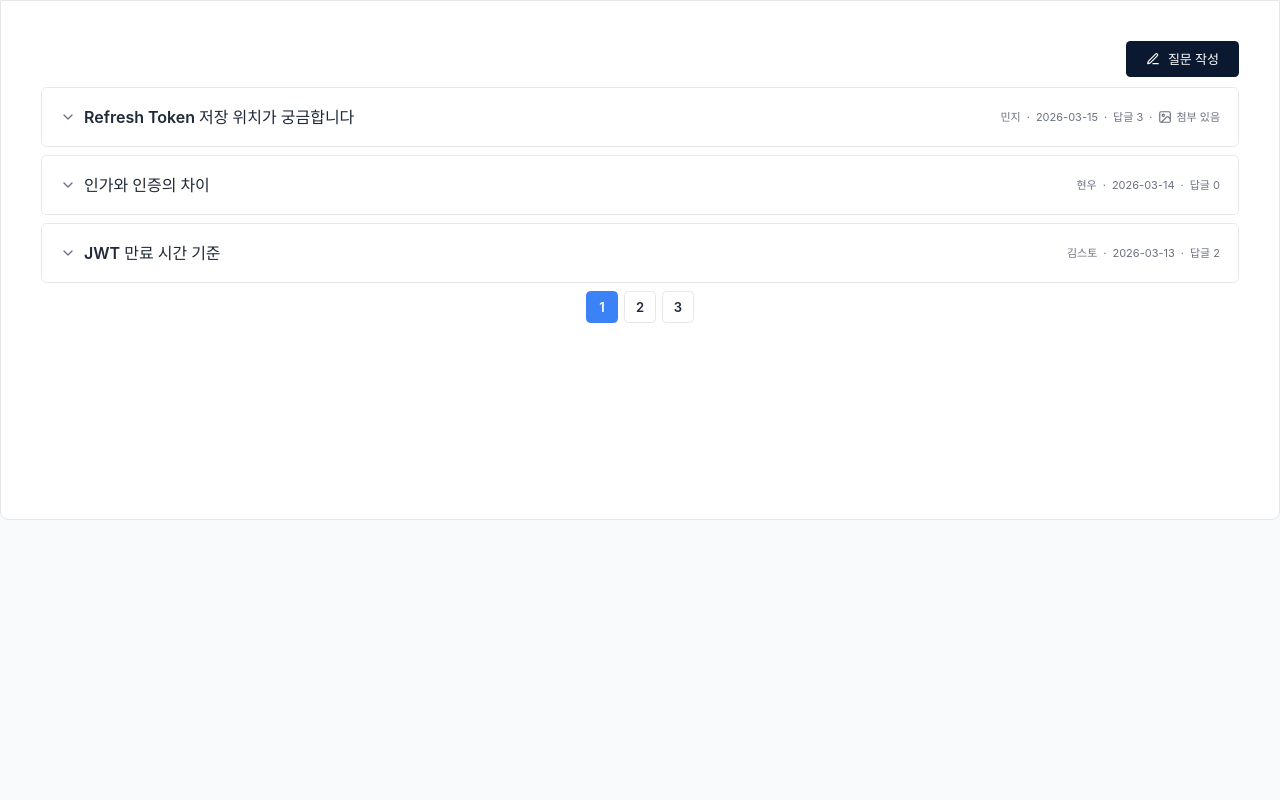
Test: QuestionsPage › 답글을 작성하고 답글 수를 갱신한다
Click the button "Refresh Token 저장 위치가 궁금합니다 민지 · 2026-03-15 · 답글 3 · 첨부 있음" at (219, 117), box [42,88,1238,146]
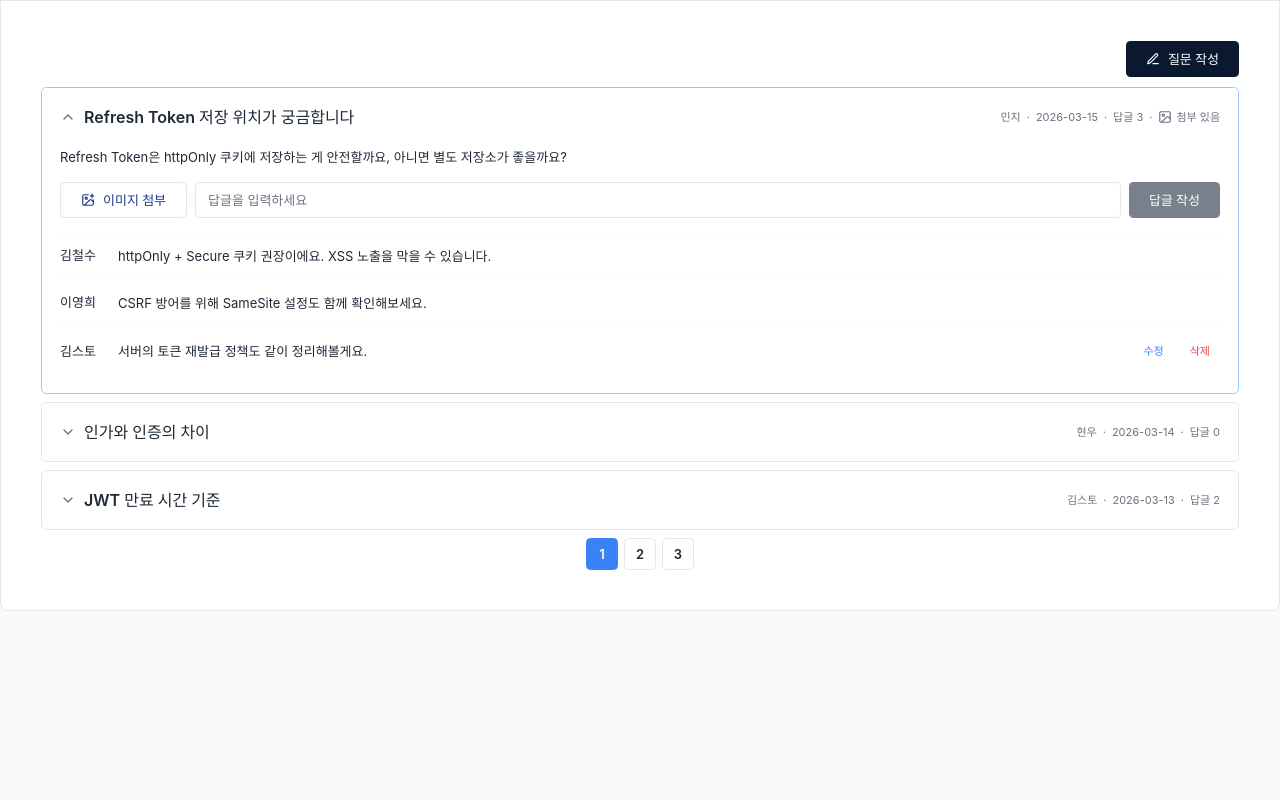
Check: the button "답글 작성" is disabled, box [1129,182,1220,218]
Type "쿠키 설정을 함께 확인하겠습니다." into the field named "답글 내용" at (658, 200), box [195,182,1121,218]
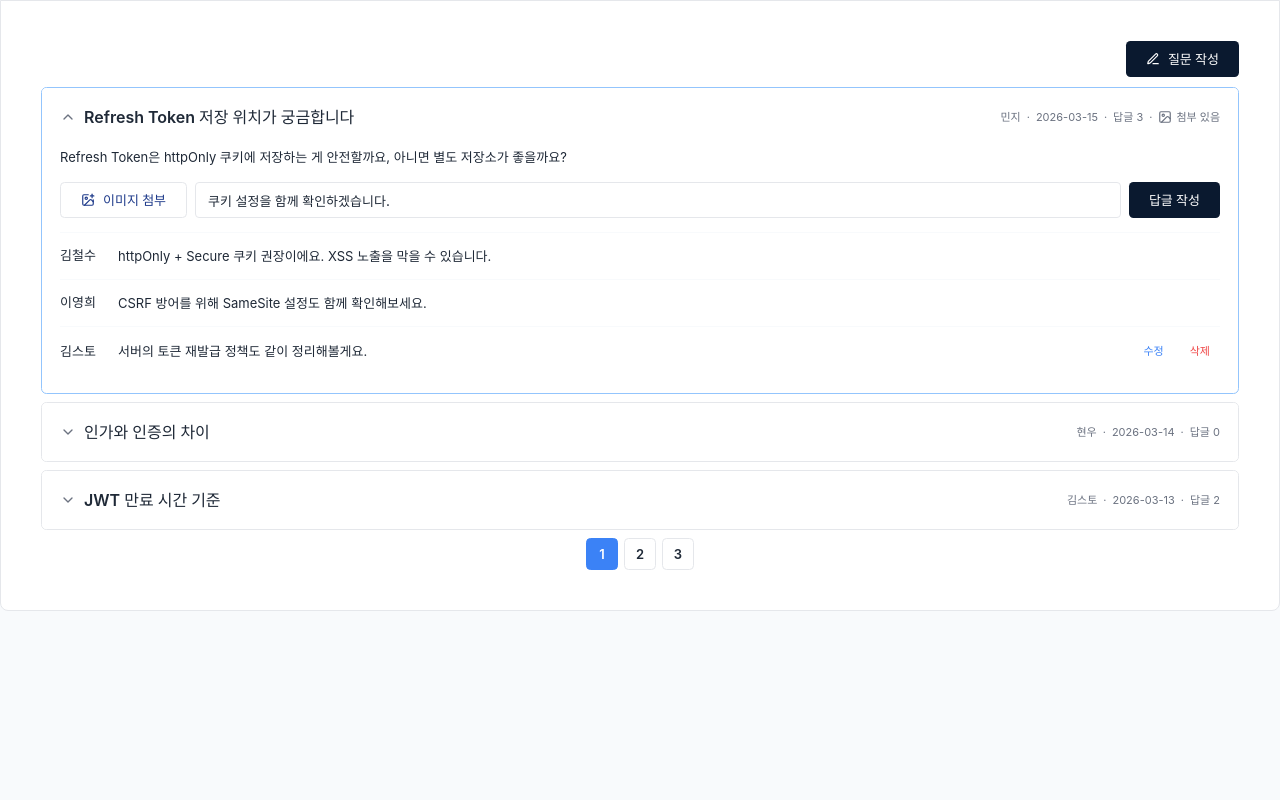
Click the button "답글 작성" at (1174, 200), box [1129,182,1220,218]
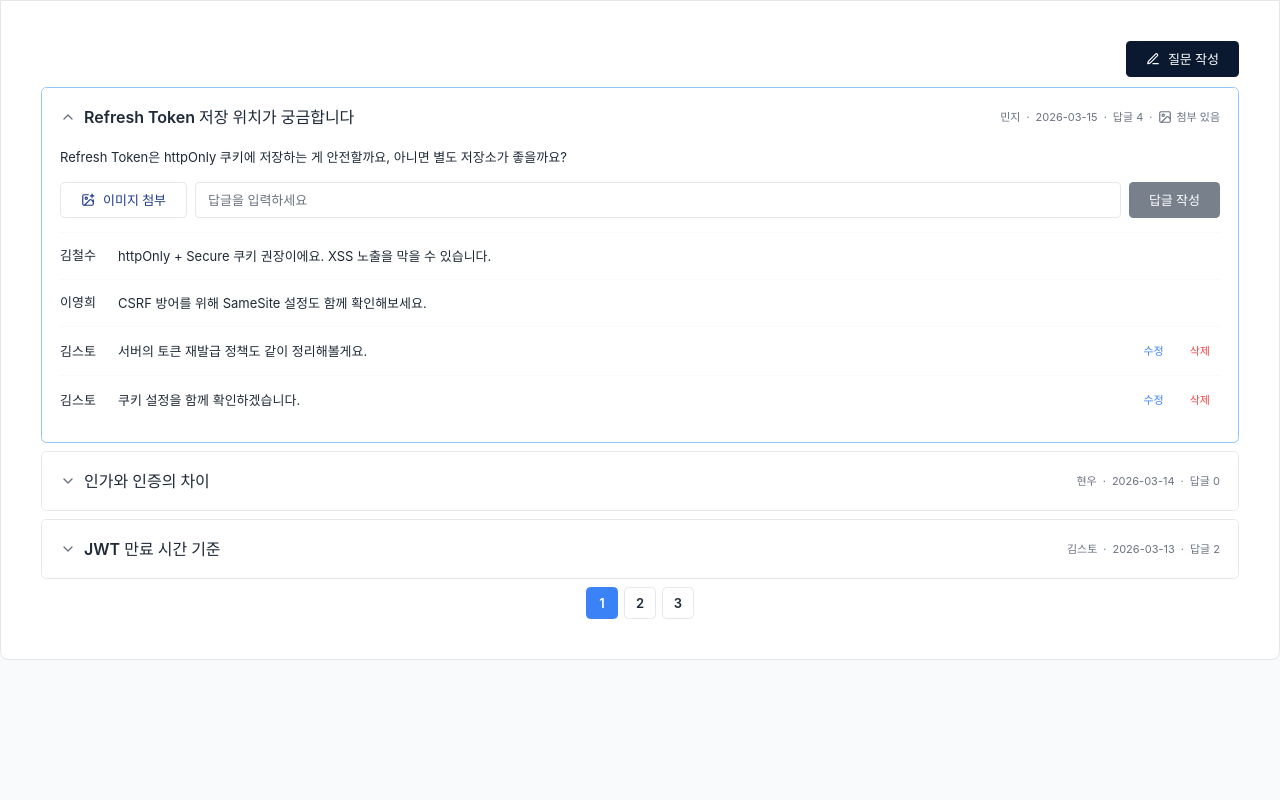
Check: the text "쿠키 설정을 함께 확인하겠습니다." is shown, box [118,392,300,408]
Check: the text "답글 4" is shown, box [1113,109,1143,125]
Check: the field named "답글 내용" is empty, box [195,182,1121,218]
